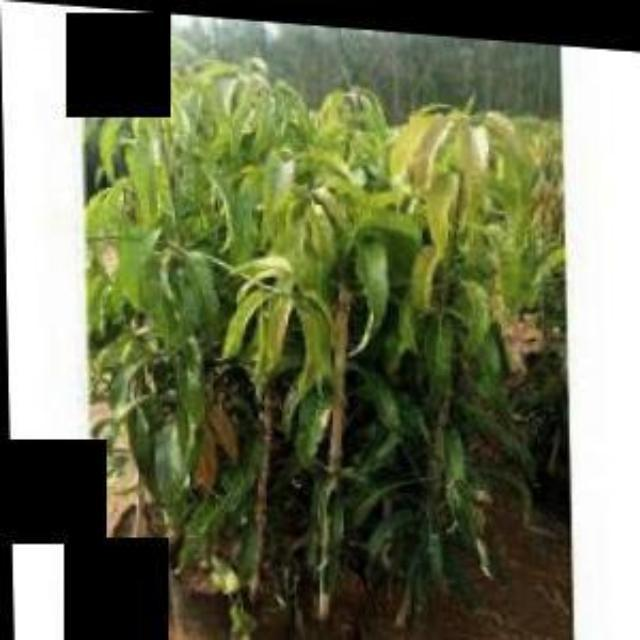tree: (98, 24, 554, 638)
